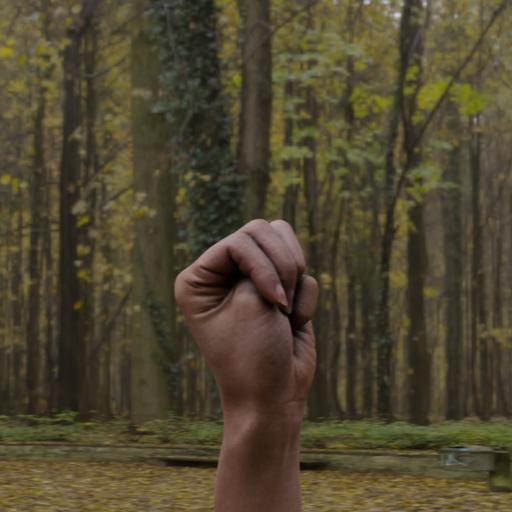M: (169, 212, 333, 492)
